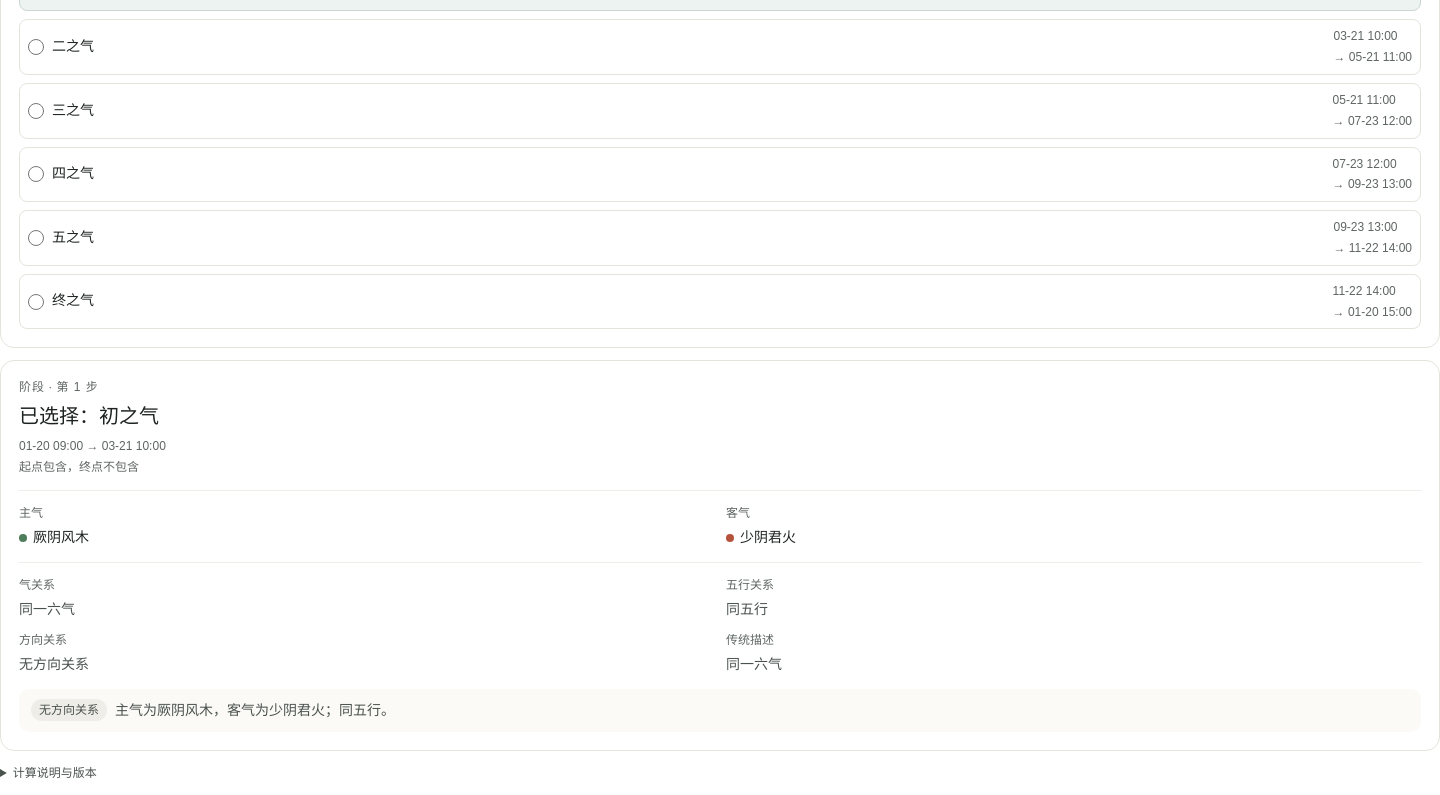
AnnualYunQiPage › retains an explicit explanation empty state inside calculation details
(page scrolled)
Expected: the text "本次结果未提供规则说明" is not shown
Click the heading "计算说明与版本".
click(55, 773)  # box [13,766,97,780]
(page scrolled)
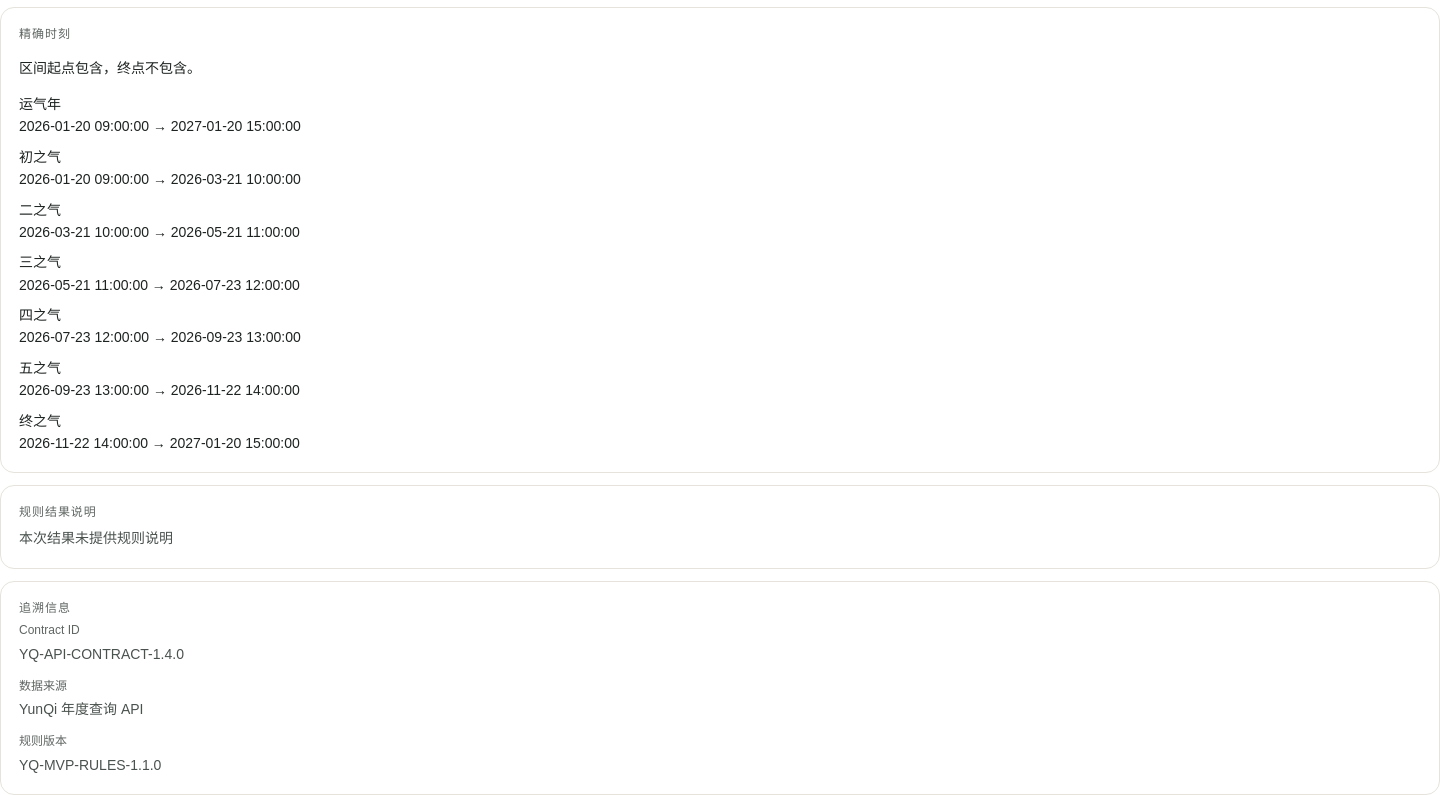
Expected: the text "本次结果未提供规则说明" is shown, [19,530,173,546]
